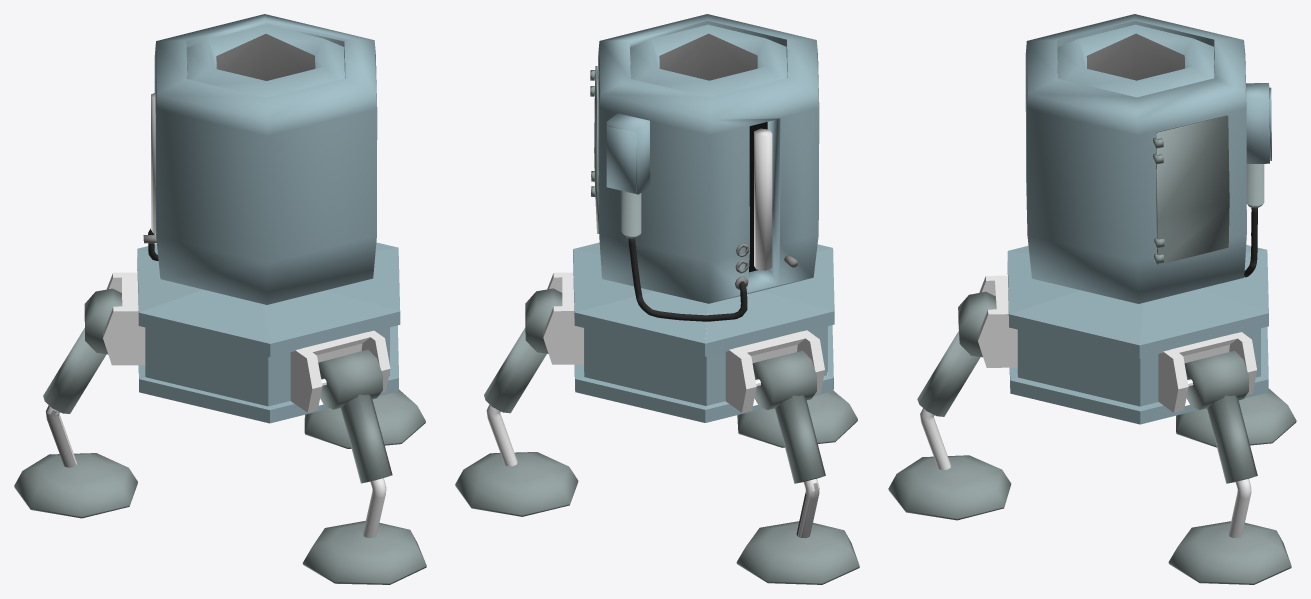
The model's file is PowerGen.fbx.
The picture shows the model from 3 angles, left to right: view 1: azimuth 30°, elevation 25°; view 2: azimuth 150°, elevation 25°; view 3: azimuth 270°, elevation 25°; orthographic projection.
Visible parts, largest first — view 1: Top, Bottom; view 2: Top, Bottom; view 3: Top, Bottom.
Part boxes in pixels (bbox=[...]): Top: bbox=[143, 14, 377, 304]; Bottom: bbox=[14, 242, 426, 584]; Top: bbox=[590, 14, 819, 321]; Bottom: bbox=[455, 242, 859, 584]; Top: bbox=[1025, 14, 1271, 303]; Bottom: bbox=[888, 245, 1296, 584].
Size of the model in its own units: 236 by 266 by 215.
